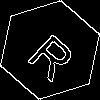R: (25, 25, 85, 84)
